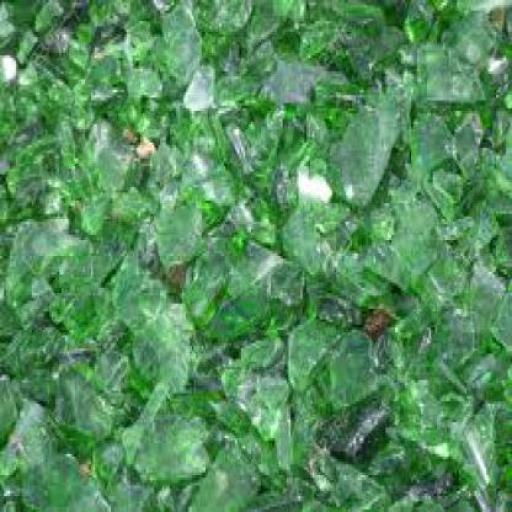glass: (0, 0, 511, 511), (0, 52, 101, 230), (83, 0, 198, 95), (326, 76, 405, 196), (16, 411, 111, 510), (191, 227, 279, 327), (213, 258, 301, 348), (59, 353, 131, 459), (272, 188, 358, 269), (93, 235, 168, 325), (85, 322, 149, 420), (379, 184, 447, 274), (130, 390, 204, 470), (318, 388, 387, 472), (280, 378, 330, 490), (400, 37, 480, 106), (424, 0, 510, 64), (239, 356, 287, 470), (178, 438, 247, 510), (314, 316, 376, 396), (77, 430, 141, 507), (0, 390, 44, 502), (130, 294, 186, 377), (360, 227, 423, 299), (209, 325, 287, 383), (306, 235, 366, 309), (374, 436, 432, 510), (312, 454, 386, 510), (51, 287, 123, 343), (2, 250, 56, 324), (33, 230, 97, 288), (0, 0, 123, 30), (442, 106, 487, 187), (304, 76, 354, 146), (156, 198, 200, 277), (257, 63, 334, 108), (234, 185, 282, 256), (253, 470, 338, 510), (460, 406, 492, 510), (6, 214, 70, 264), (290, 306, 335, 377), (178, 354, 236, 409), (53, 319, 125, 362), (14, 319, 64, 380), (79, 190, 127, 253), (297, 10, 358, 58), (255, 150, 295, 222), (106, 179, 162, 230), (383, 358, 435, 412), (431, 301, 479, 359), (12, 358, 60, 416), (290, 143, 340, 198), (174, 187, 230, 235), (99, 95, 155, 143), (81, 48, 132, 100), (427, 153, 467, 219), (186, 0, 257, 37), (409, 106, 449, 171), (447, 195, 496, 248), (219, 124, 261, 185), (368, 280, 417, 332), (118, 45, 166, 98), (322, 0, 386, 39), (393, 306, 425, 380), (466, 253, 498, 325), (419, 256, 467, 304), (196, 399, 243, 448), (465, 361, 510, 409), (196, 26, 241, 74), (122, 208, 154, 274), (328, 34, 370, 84), (431, 359, 469, 414), (481, 279, 510, 351), (186, 150, 225, 203), (58, 145, 106, 187), (237, 5, 277, 55), (239, 34, 277, 84), (212, 103, 251, 151), (92, 142, 127, 195), (403, 0, 443, 46), (147, 97, 182, 148), (368, 16, 401, 69), (421, 411, 459, 457), (243, 420, 273, 478), (386, 400, 425, 444), (152, 132, 188, 179), (481, 90, 510, 148), (0, 367, 22, 443), (0, 21, 38, 64), (481, 142, 510, 195), (271, 103, 303, 151), (57, 82, 89, 130), (255, 0, 306, 30), (427, 457, 459, 504), (491, 409, 510, 488), (174, 106, 205, 152), (0, 285, 20, 356), (478, 53, 510, 97), (122, 142, 154, 185), (372, 320, 398, 369), (207, 63, 237, 103), (61, 195, 83, 238), (272, 29, 294, 63), (494, 482, 510, 510)
